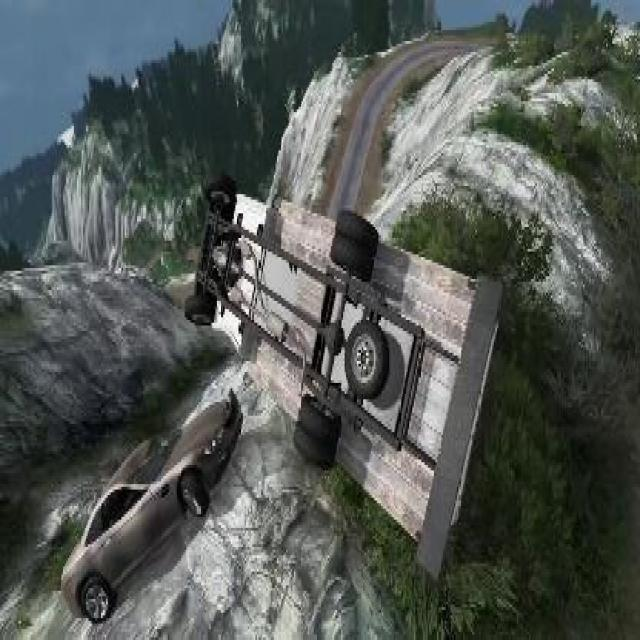accident: (183, 167, 506, 591)
